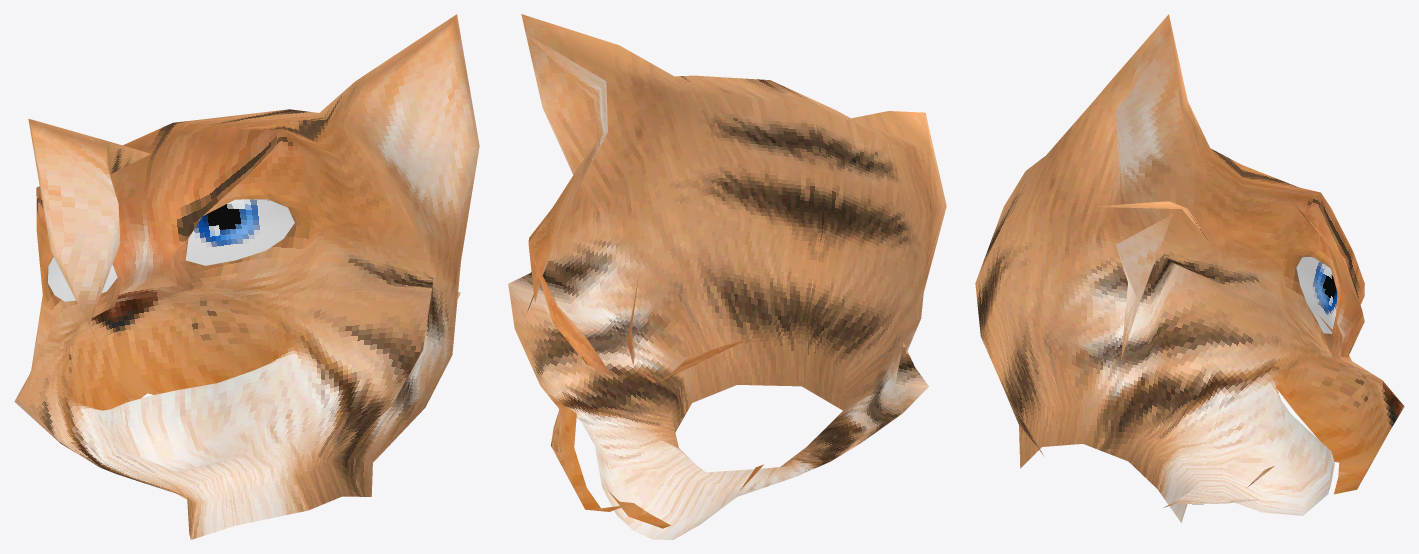
File: ps2_save-icons_legendofkay.glb
The picture shows the model from 3 angles, left to right: view 1: azimuth 30°, elevation 25°; view 2: azimuth 150°, elevation 25°; view 3: azimuth 270°, elevation 25°; orthographic projection. The views are drawn at different scales.
Visible parts, largest first — view 1: list.ICO; view 2: list.ICO; view 3: list.ICO.
Boxes of the visible parts, left/top/right/bottom form: list.ICO: left=14, top=14, right=479, bottom=539; list.ICO: left=508, top=14, right=946, bottom=539; list.ICO: left=975, top=14, right=1404, bottom=522.
Bounding box in the file's own units: 3.79 × 3.77 × 3.53.
Materials: 1 (1 with a texture image).
